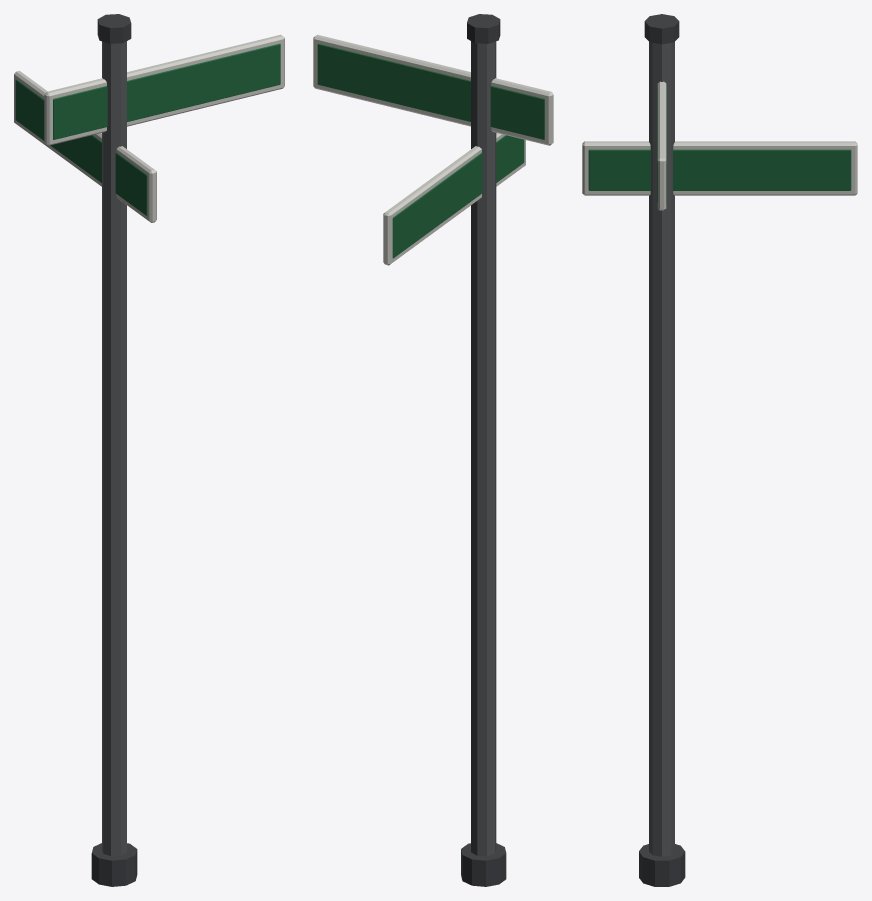
The model's file is signpole.glb.
The picture shows the model from 3 angles, left to right: view 1: azimuth 30°, elevation 25°; view 2: azimuth 150°, elevation 25°; view 3: azimuth 270°, elevation 25°; orthographic projection.
Visible parts, largest first — view 1: signpole; view 2: signpole; view 3: signpole.
Part boxes in pixels (x1=…): signpole: x1=14, y1=14, x2=284, y2=886; signpole: x1=313, y1=14, x2=553, y2=886; signpole: x1=582, y1=14, x2=857, y2=886.
Size of the model in its own units: 0.95 by 3.26 by 0.95.
